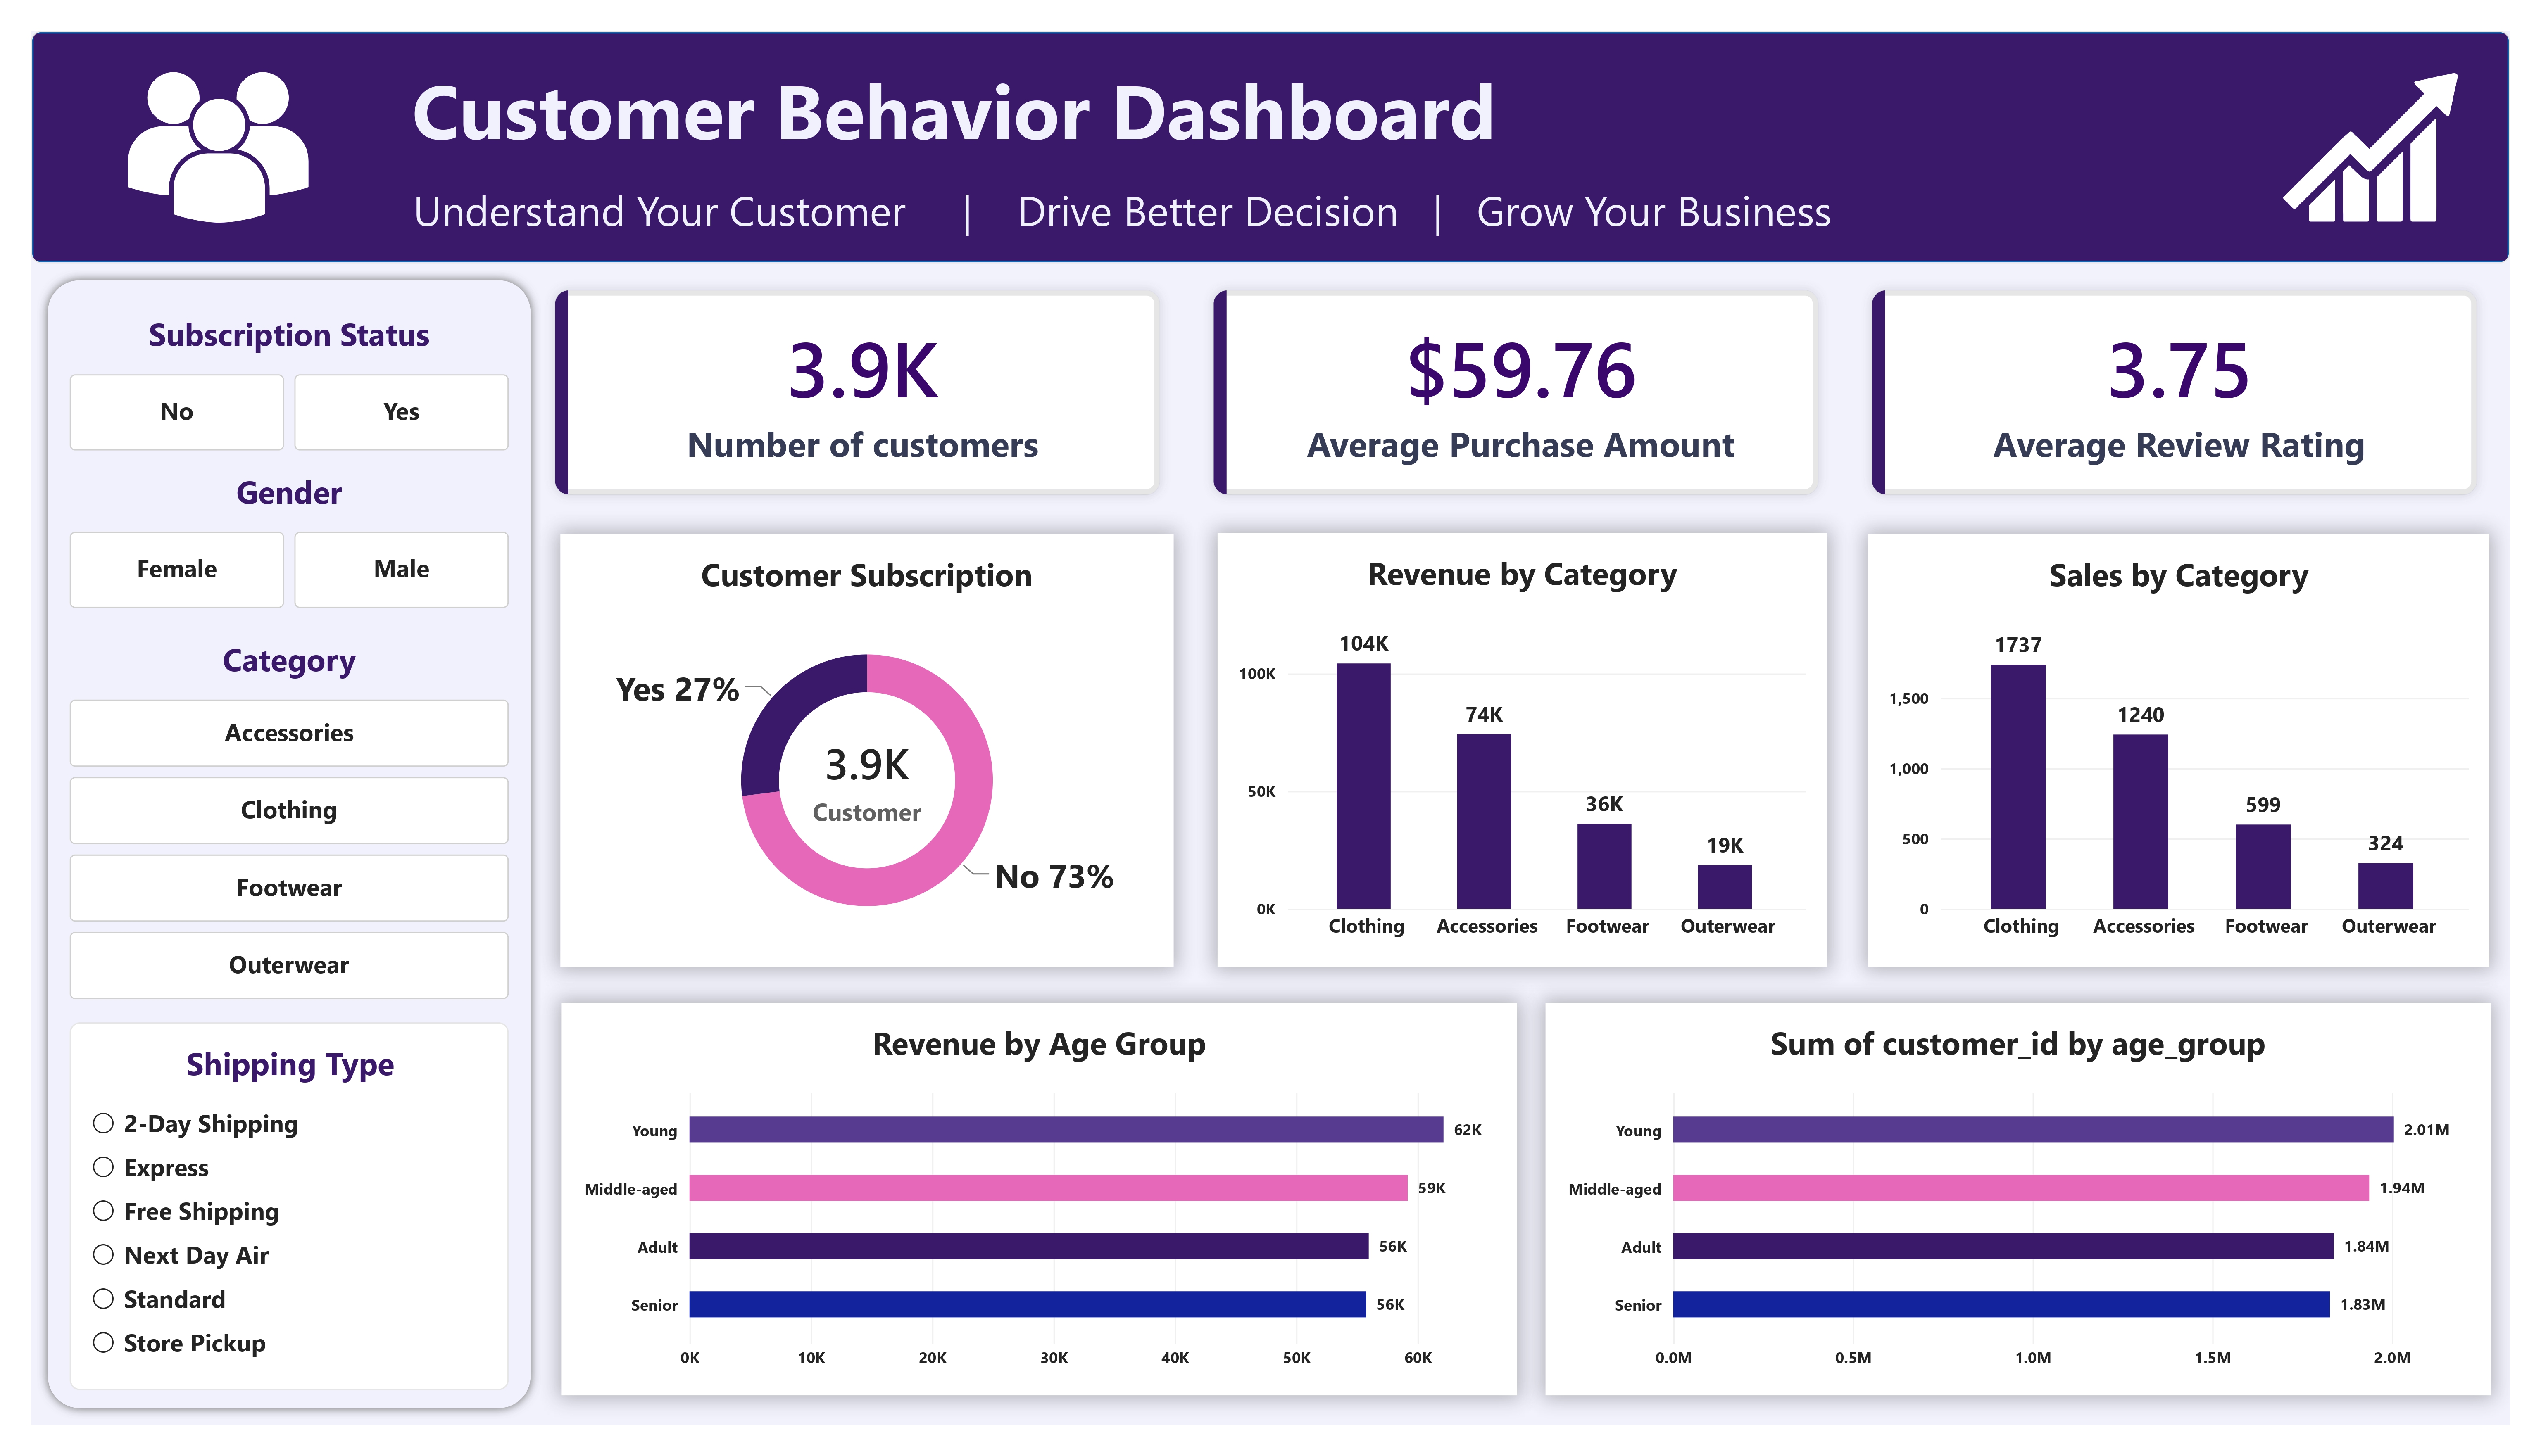

The dashboard page shown, as its layout file describes it:
{"tool":"powerbi","page":{"name":"Page 1","canvas":[1920,1080],"ordinal":0},"visuals":[{"type":"cardVisual","fields":{"Data":["customer_behaviour customer.Number of customers","customer_behaviour customer.Average Purchase Amount","customer_behaviour customer.Average Review Rating"]},"box":[395,190,1510,180],"z":0},{"type":"shape","box":[0,0,1920,180],"z":1000},{"type":"shape","box":[5,185,390,890],"z":2000},{"type":"textbox","box":[295,21.2,1120,93.8],"z":3000},{"type":"textbox","box":[295.7,115.7,1257.1,42.9],"z":4000},{"type":"columnChart","title":"Revenue by Category","fields":{"Category":["customer_behaviour customer.category"],"Y":["Sum(customer_behaviour customer.purchase_amount)"]},"box":[918.5,389.2,472,336],"z":5000},{"type":"columnChart","title":"Sales by Category","fields":{"Category":["customer_behaviour customer.category"],"Y":["CountNonNull(customer_behaviour customer.customer_id)"]},"box":[1422.5,389.6,481.7,335],"z":6000},{"type":"donutChart","title":"Customer Subscription ","fields":{"Category":["customer_behaviour customer.subscription_status"],"Y":["CountNonNull(customer_behaviour customer.customer_id)"]},"box":[410,390,475,335],"z":7000},{"type":"barChart","title":"Revenue by Age Group","fields":{"Category":["customer_behaviour customer.age_group"],"Y":["Sum(customer_behaviour customer.purchase_amount)"]},"box":[410.5,753.2,740,304],"z":8000},{"type":"barChart","title":"Sales by Age Group","fields":{"Category":["customer_behaviour customer.age_group"],"Y":["Sum(customer_behaviour customer.customer_id)"]},"box":[1173.3,753.3,731.7,303.3],"z":9000},{"type":"listSlicer","title":"Shipping Type","fields":{"Values":["customer_behaviour customer.shipping_type"]},"box":[30,767.5,340,285],"z":10000},{"type":"advancedSlicerVisual","title":"Category","fields":{"Values":["customer_behaviour customer.category"]},"box":[30,470,340,280],"z":11000},{"type":"advancedSlicerVisual","title":"Gender","fields":{"Values":["customer_behaviour customer.gender"]},"box":[30,340,340,107.5],"z":12000},{"type":"advancedSlicerVisual","title":"Subscription Status","fields":{"Values":["customer_behaviour customer.subscription_status"]},"box":[30,217.5,340,107.5],"z":13000},{"type":"image","box":[50,13.3,190,153.3],"z":13001},{"type":"image","box":[1716.7,13.3,190,153.3],"z":13002}]}

Visuals, with their boxes on the page's 1920x1080 design canvas (x1, y1, x2, y2). These are canvas units, not pixel positions in the 2541x1456 screenshot, which may show the page scaled, cropped or inside an application window:
cardVisual - customer_behaviour customer.Number of customers x customer_behaviour customer.Average Purchase Amount: 395 190 1905 370
shape: 0 0 1920 180
shape: 5 185 395 1075
textbox: 295 21 1415 115
textbox: 296 116 1553 159
"Revenue by Category" columnChart: 918 389 1390 725
"Sales by Category" columnChart: 1422 390 1904 725
"Customer Subscription " donutChart: 410 390 885 725
"Revenue by Age Group" barChart: 410 753 1150 1057
"Sales by Age Group" barChart: 1173 753 1905 1057
"Shipping Type" listSlicer: 30 768 370 1052
"Category" advancedSlicerVisual: 30 470 370 750
"Gender" advancedSlicerVisual: 30 340 370 448
"Subscription Status" advancedSlicerVisual: 30 218 370 325
image: 50 13 240 167
image: 1717 13 1907 167
